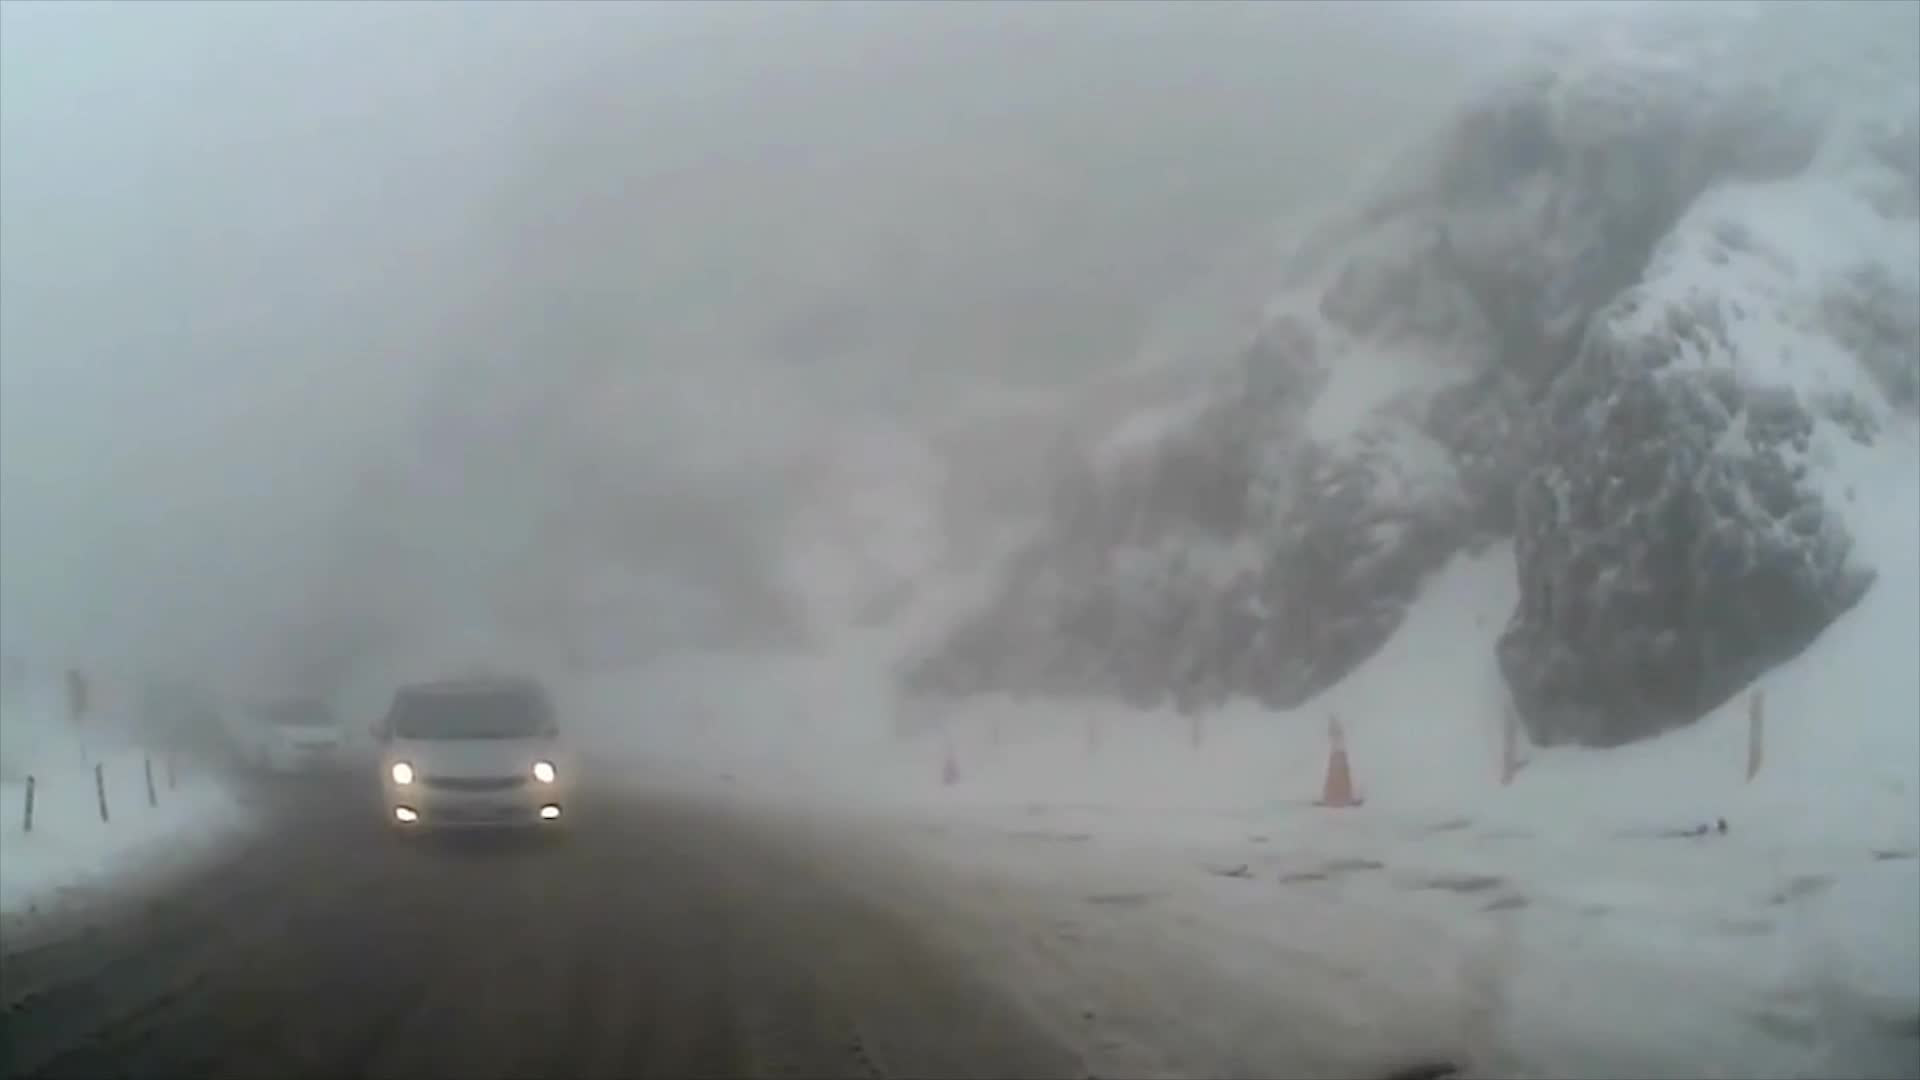vehicle: (363, 678, 560, 851)
